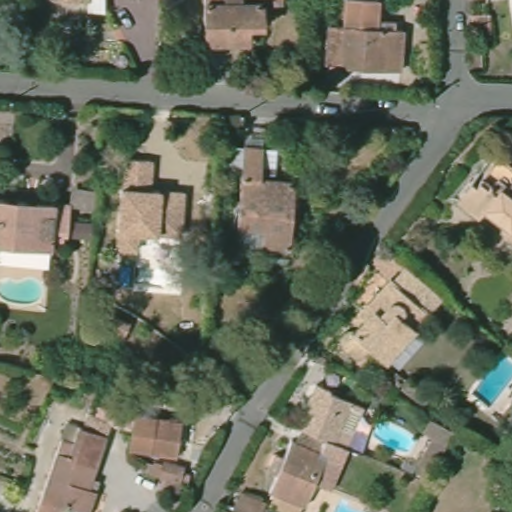pool: (471, 353, 512, 410), (1, 273, 49, 309), (371, 416, 418, 452)
